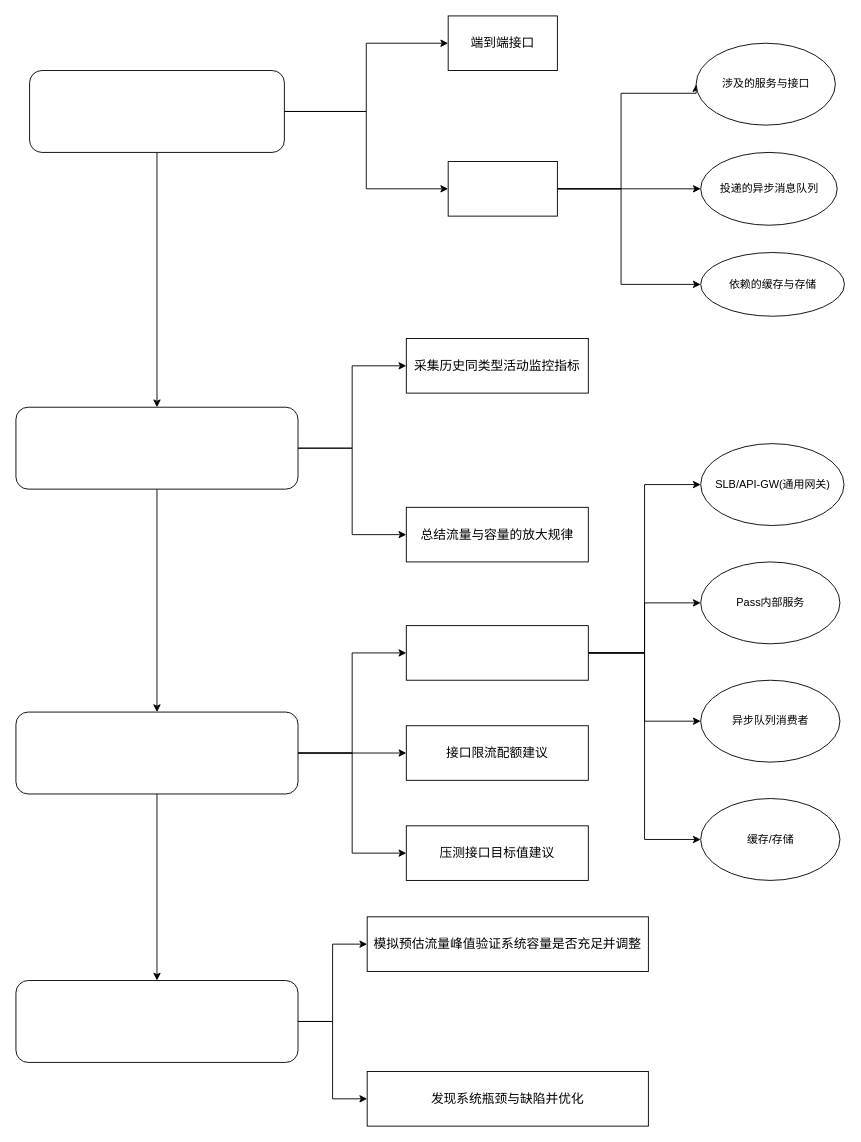
Some shapes in this 861 by 1142 pixel diagram are drawn without their labels. The centre of each missing label's shape, as x and y in pixels:
"1. 梳理活动涉及的业务功能" belongs at (x=156, y=111).
"2. 确定流量与容量的放大模型" belongs at (x=156, y=447).
"3. 预估流量峰值与系统容量" belongs at (x=156, y=752).
"4. 压测" belongs at (x=156, y=1021).
"接口trace链路" belongs at (x=502, y=188).
"系统容量扩容建议" belongs at (x=496, y=652).
